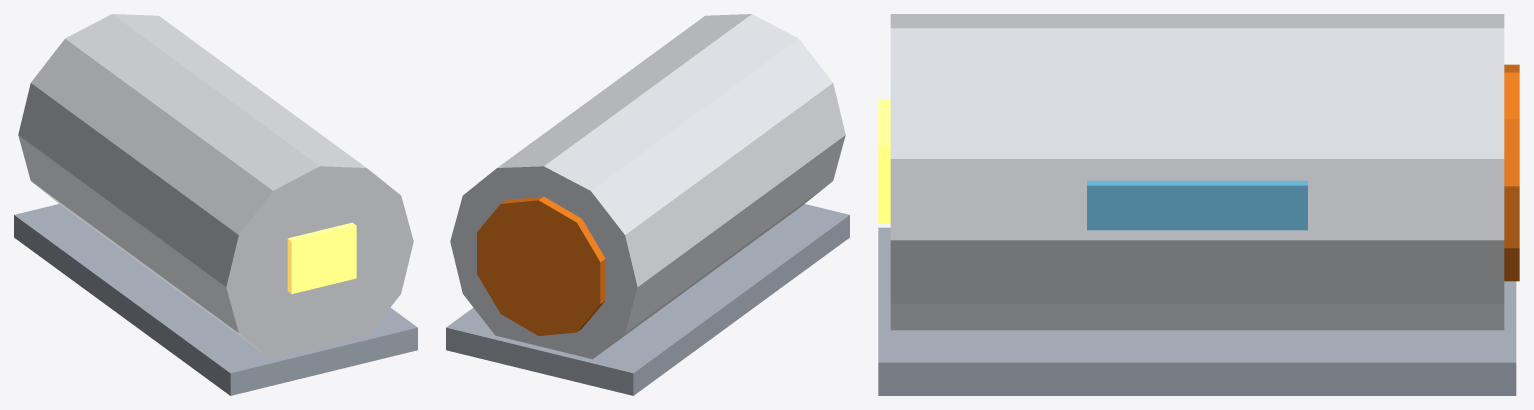
File: lunar-cabin-module.glb
The picture shows the model from 3 angles, left to right: view 1: azimuth 30°, elevation 25°; view 2: azimuth 150°, elevation 25°; view 3: azimuth 270°, elevation 25°; orthographic projection. The views are drawn at different scales.
Visible parts, largest first — view 1: cabin_module; view 2: cabin_module; view 3: cabin_module.
Boxes of the visible parts, x1,y1,x2,y2 form: cabin_module: (14, 14, 417, 395); cabin_module: (446, 14, 849, 395); cabin_module: (878, 14, 1519, 395).
Size of the model in its own units: 2.62 by 2.7 by 5.22.
